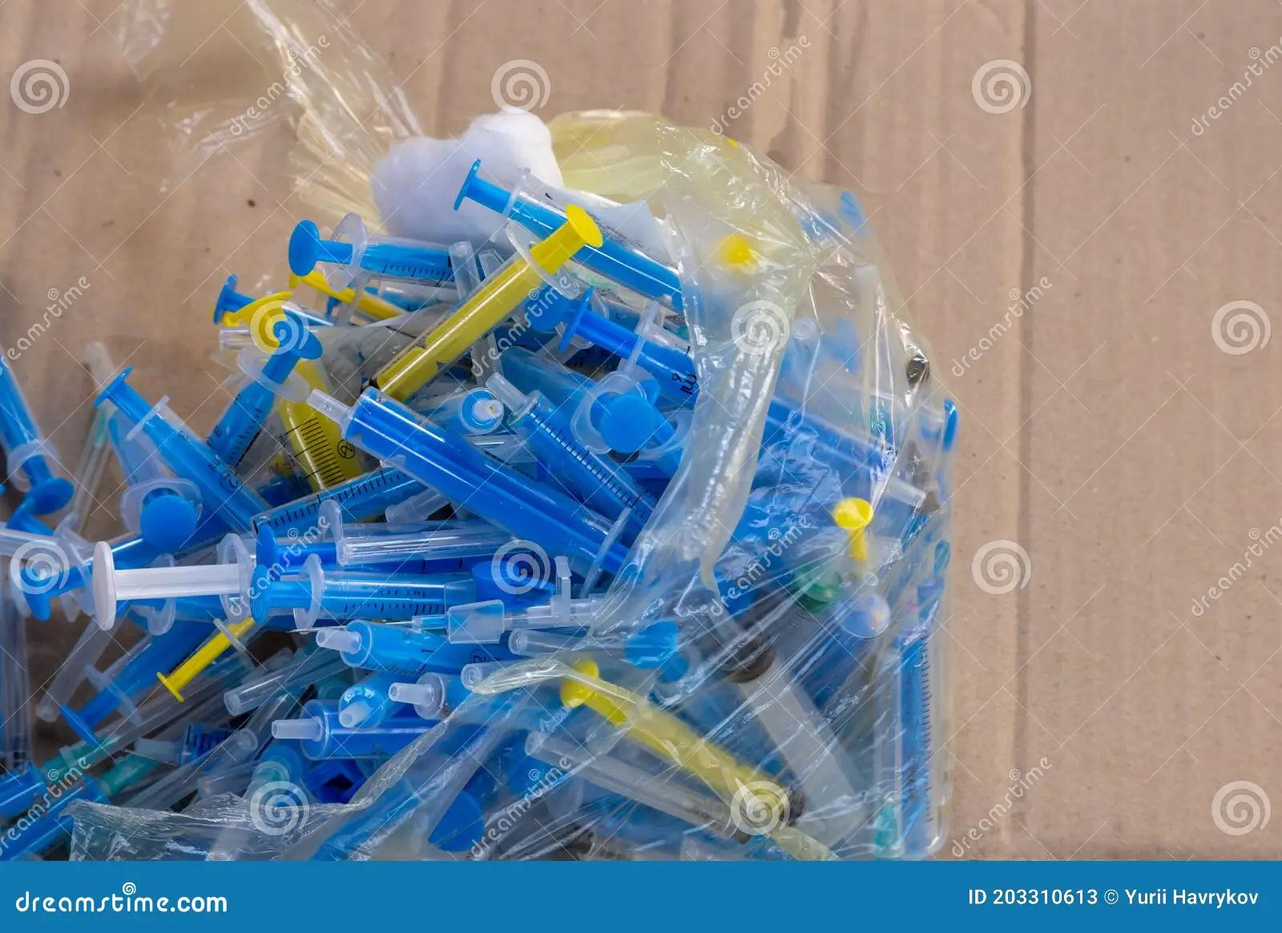Syringe: (310, 388, 626, 573), (373, 206, 600, 400), (95, 368, 268, 530), (487, 373, 655, 529), (207, 303, 321, 467), (288, 214, 452, 288), (0, 360, 74, 513), (454, 159, 574, 235)
